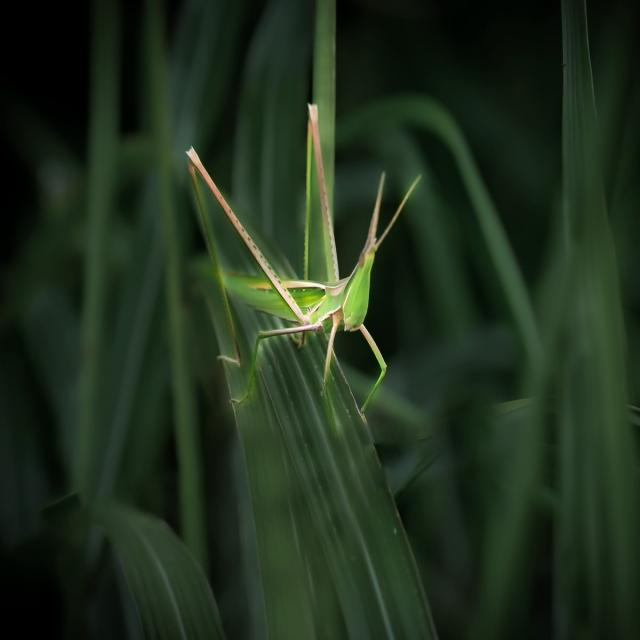ZhaMeng: (157, 105, 438, 436)
